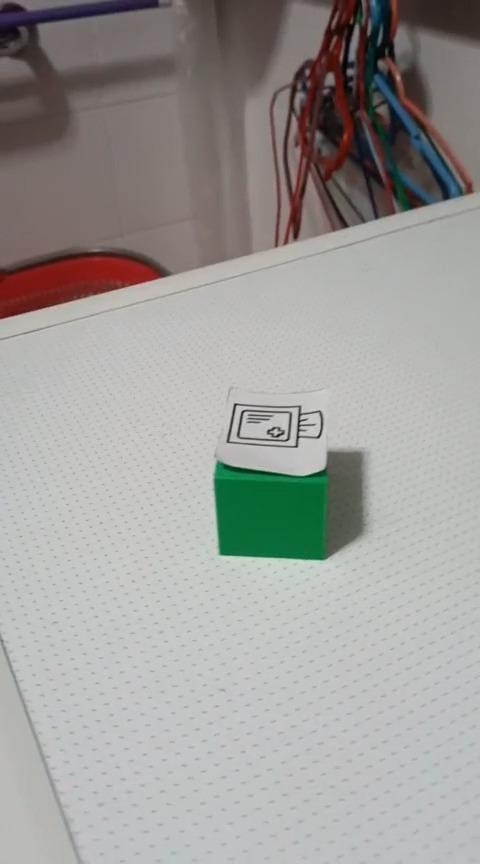Gauze: (211, 383, 330, 560)
